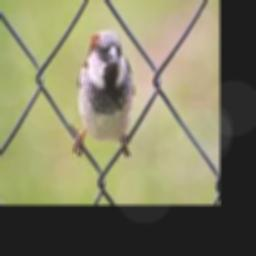Sparrow: (77, 30, 134, 144)
